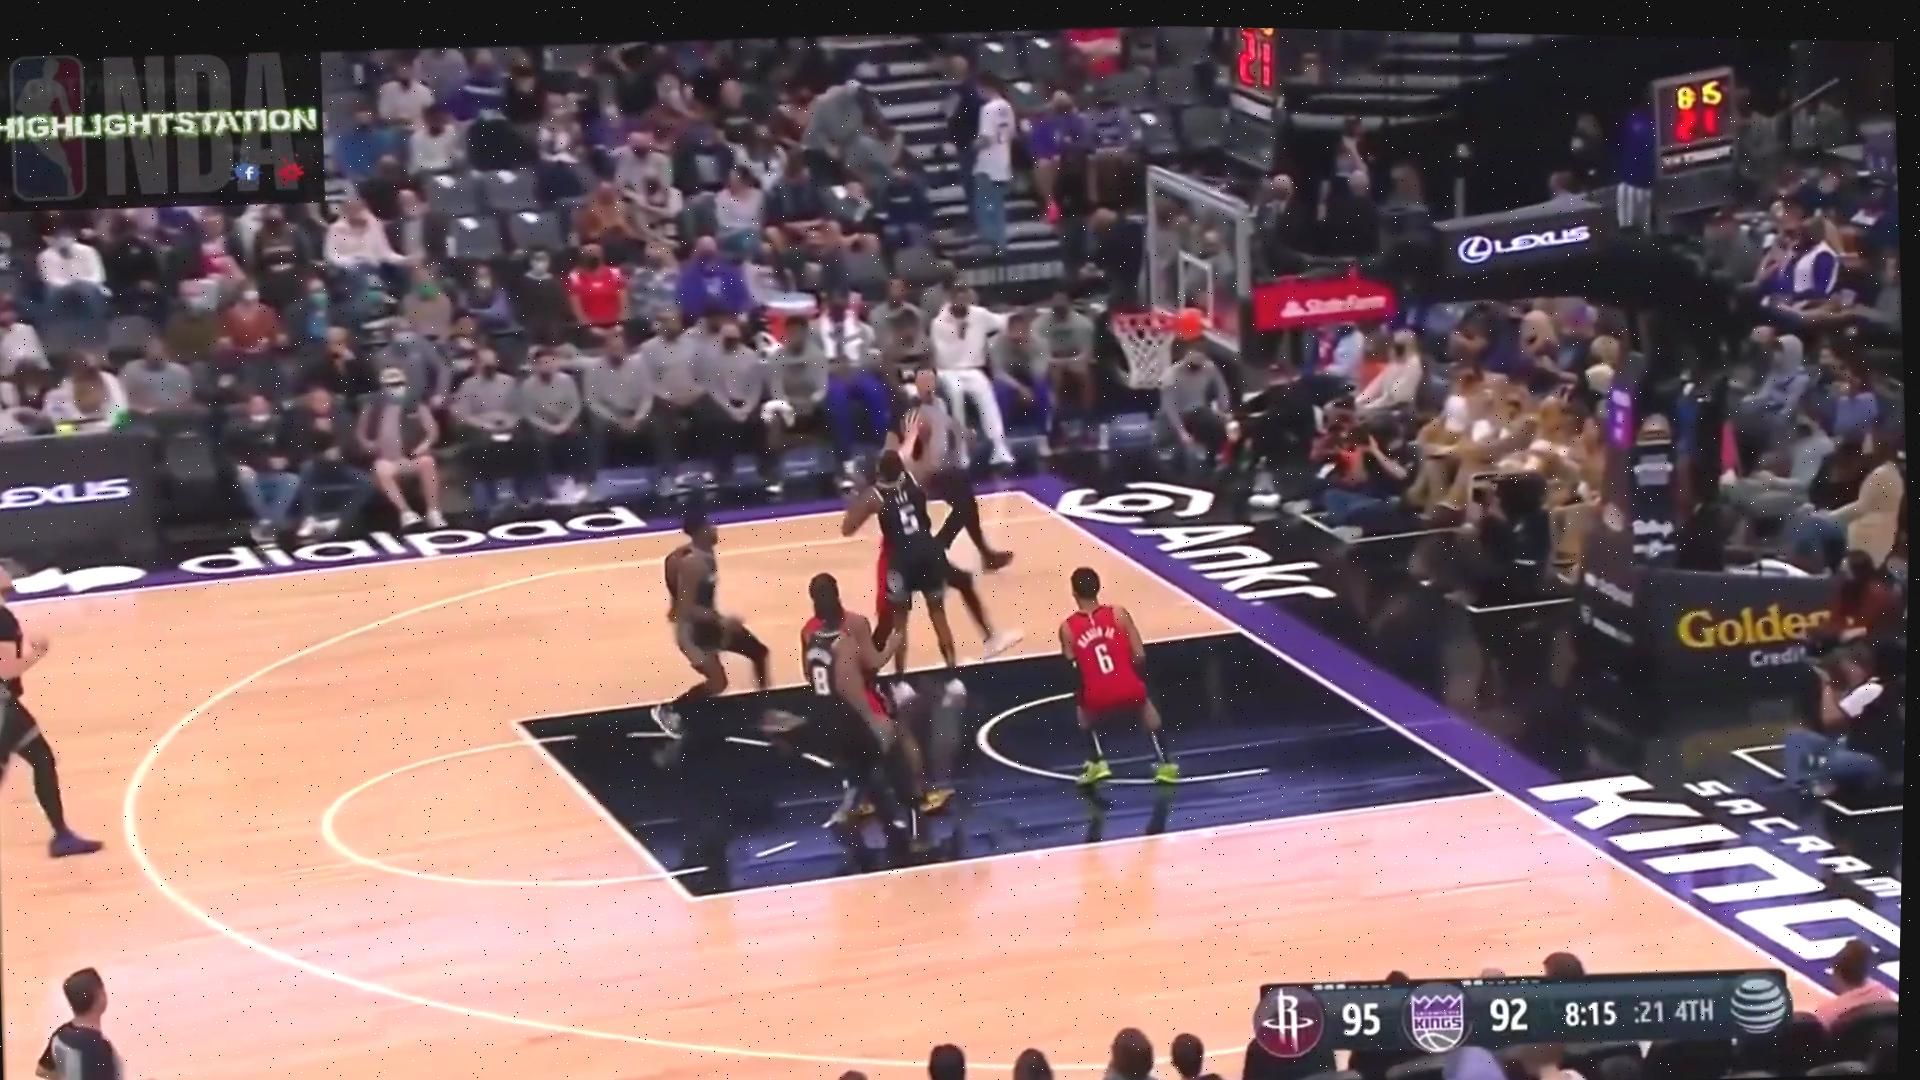foul: (843, 414, 996, 704)
